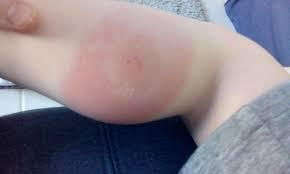Tick: (99, 25, 165, 110)
